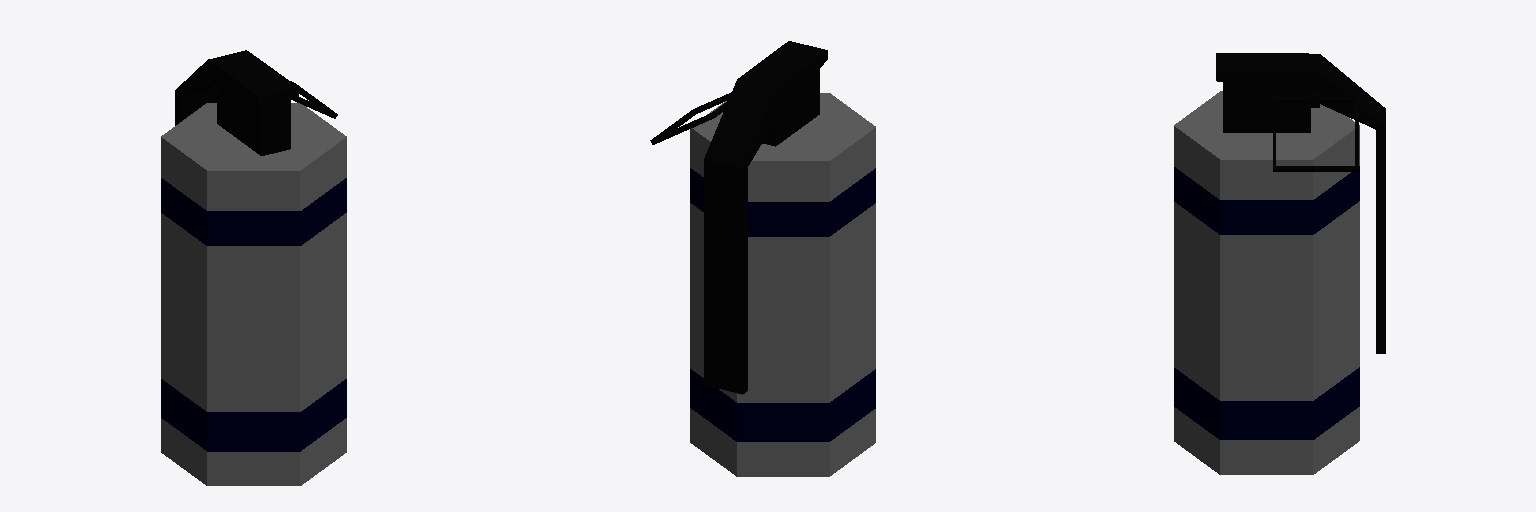
The model's file is Grenade_Teargas.obj.
The picture shows the model from 3 angles: view 1: azimuth 30°, elevation 25°; view 2: azimuth 150°, elevation 25°; view 3: azimuth 270°, elevation 25°; orthographic projection.
Parts seen in each view (by area): view 1: Grenade_Teargas_Cube.015; view 2: Grenade_Teargas_Cube.015; view 3: Grenade_Teargas_Cube.015.
Part boxes in pixels (bbox=[...]): Grenade_Teargas_Cube.015: bbox=[161, 50, 346, 485]; Grenade_Teargas_Cube.015: bbox=[650, 41, 875, 476]; Grenade_Teargas_Cube.015: bbox=[1174, 53, 1385, 474].
Bounding box in the file's own units: 0.0541 × 0.1246 × 0.0634.